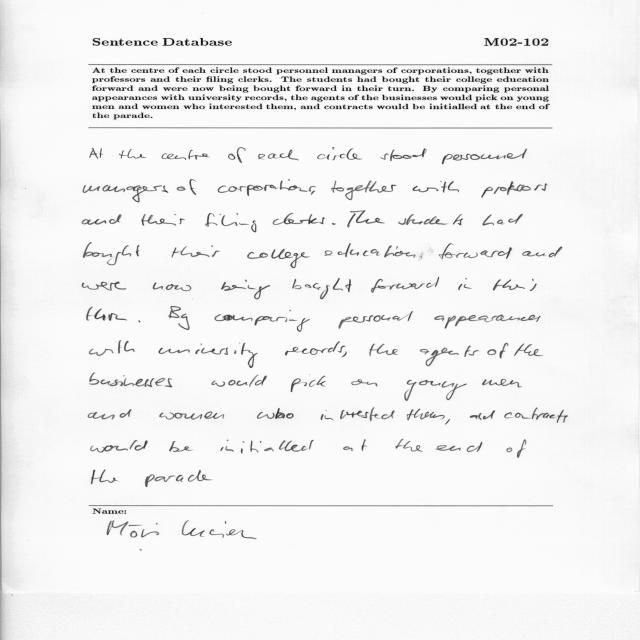word: (159, 343, 258, 368), (214, 310, 310, 332), (218, 179, 316, 196), (434, 315, 541, 329), (324, 243, 422, 258), (83, 185, 168, 202), (339, 311, 413, 329), (404, 380, 467, 401), (220, 440, 314, 454), (83, 243, 140, 266), (442, 149, 527, 164), (292, 278, 352, 299), (420, 346, 479, 367), (247, 249, 310, 268), (439, 243, 512, 259), (90, 373, 172, 387), (482, 181, 548, 198), (371, 277, 439, 293), (345, 181, 397, 201), (205, 213, 257, 232), (221, 280, 270, 300), (321, 408, 395, 421), (504, 408, 568, 423), (285, 341, 345, 356), (91, 440, 148, 453), (89, 340, 135, 356), (398, 214, 463, 225), (211, 375, 267, 387), (347, 211, 385, 228), (171, 245, 220, 258), (273, 213, 325, 225), (381, 148, 427, 161), (317, 148, 362, 161), (87, 307, 127, 321), (291, 376, 326, 392), (141, 214, 185, 226), (493, 279, 537, 291), (159, 412, 224, 420), (413, 181, 459, 192), (169, 306, 190, 330), (145, 474, 183, 487), (482, 214, 523, 226), (161, 150, 210, 160), (88, 409, 132, 420), (436, 442, 482, 452), (407, 409, 445, 421), (258, 150, 299, 161), (82, 214, 122, 225), (523, 247, 563, 258), (257, 408, 294, 419), (83, 282, 127, 291), (507, 439, 527, 458), (92, 470, 119, 484), (396, 439, 423, 452), (369, 344, 398, 356), (514, 344, 543, 356), (153, 283, 191, 292), (487, 343, 508, 359), (482, 379, 522, 387), (177, 179, 196, 195), (343, 439, 367, 451), (188, 470, 212, 482), (119, 149, 147, 159), (228, 148, 246, 163), (169, 441, 192, 452), (470, 410, 495, 420), (351, 379, 378, 387), (458, 278, 472, 290), (331, 181, 344, 193), (90, 148, 103, 158), (341, 351, 347, 357), (445, 419, 450, 425), (332, 223, 336, 225), (138, 321, 140, 323)
